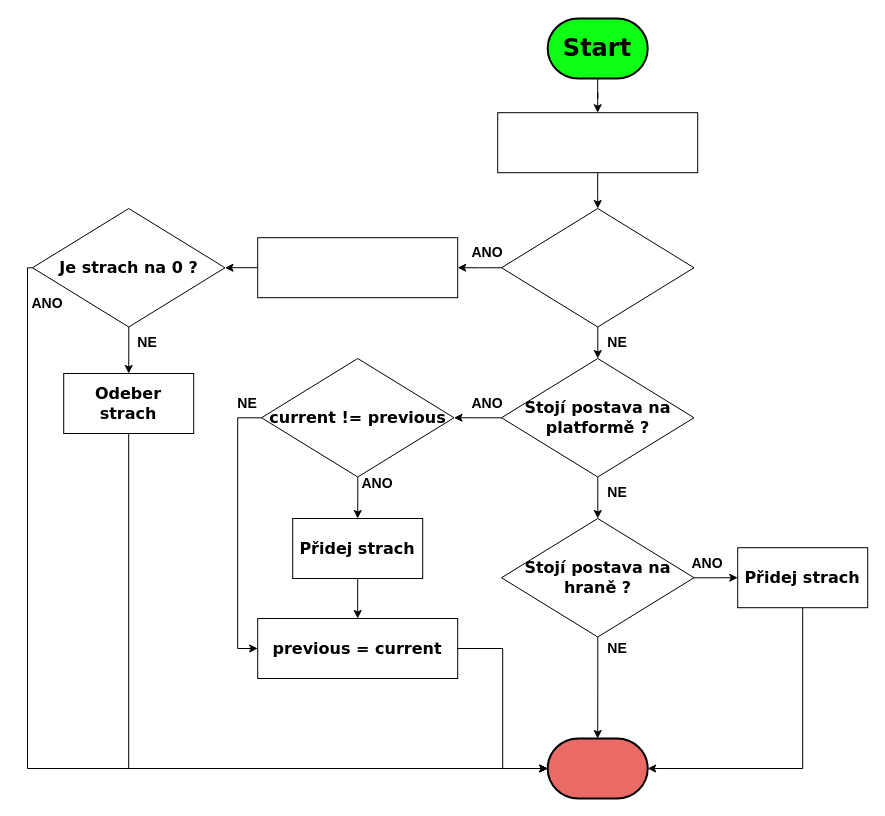
The diagram is 885 pixels wide and 816 high, and some of its shapes have lost their labels. The shapes that lost their labels are listed below. From the top down, each one's box as (x1, y1, x2, y2) in pixels, then its label:
(497, 112, 698, 173): current = player.y
(257, 237, 458, 298): previous = player.y
(500, 208, 694, 327): Stojí postava na zemi ?
(546, 737, 648, 799): Konec
